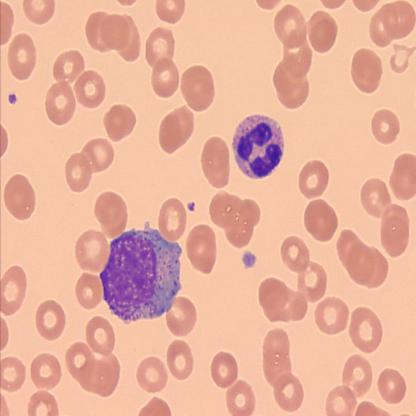Myelocyte: (98, 225, 182, 319), (234, 112, 284, 178)
